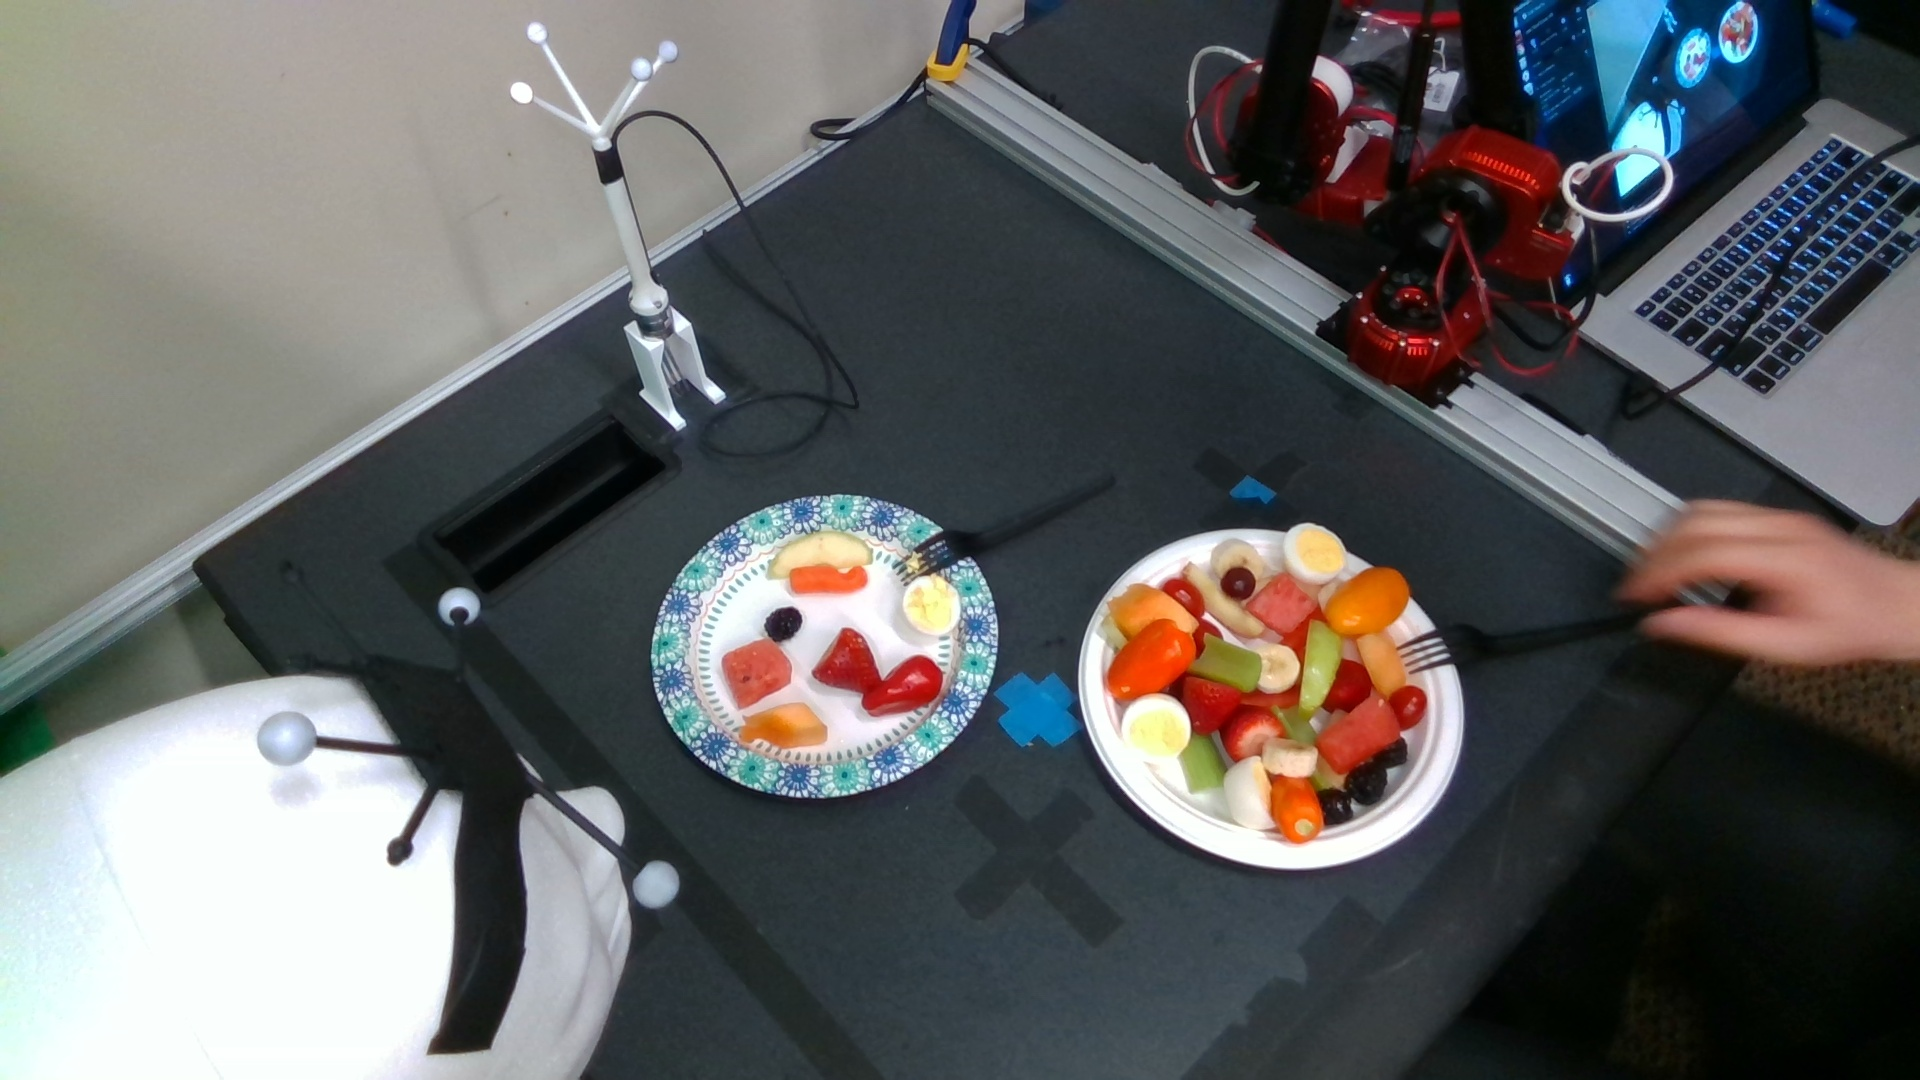apple: (766, 533, 874, 582), (1299, 620, 1342, 711)
banana: (1258, 645, 1302, 694), (1262, 738, 1317, 777)
bell_pepper: (1109, 624, 1193, 704), (1331, 568, 1408, 636), (861, 657, 942, 715), (1274, 779, 1323, 844)
blackberry: (1346, 764, 1387, 806), (765, 607, 802, 642), (1317, 789, 1353, 824)
cantalope: (1112, 585, 1197, 634), (744, 702, 827, 750), (1357, 633, 1407, 695)
carrot: (790, 564, 866, 592)
celery: (1189, 636, 1261, 694), (1179, 735, 1228, 794)
cherry_tomato: (1162, 580, 1204, 620), (1393, 688, 1427, 729)
egg: (1124, 695, 1189, 761), (1283, 524, 1346, 584), (1225, 756, 1276, 829), (902, 578, 960, 636)
grape_purple: (1220, 568, 1255, 601)
melon: (1317, 699, 1398, 773), (723, 640, 791, 709), (1247, 574, 1316, 632)
strawberry: (814, 628, 884, 694), (1222, 707, 1284, 764), (1185, 676, 1242, 735), (1323, 661, 1367, 713)
